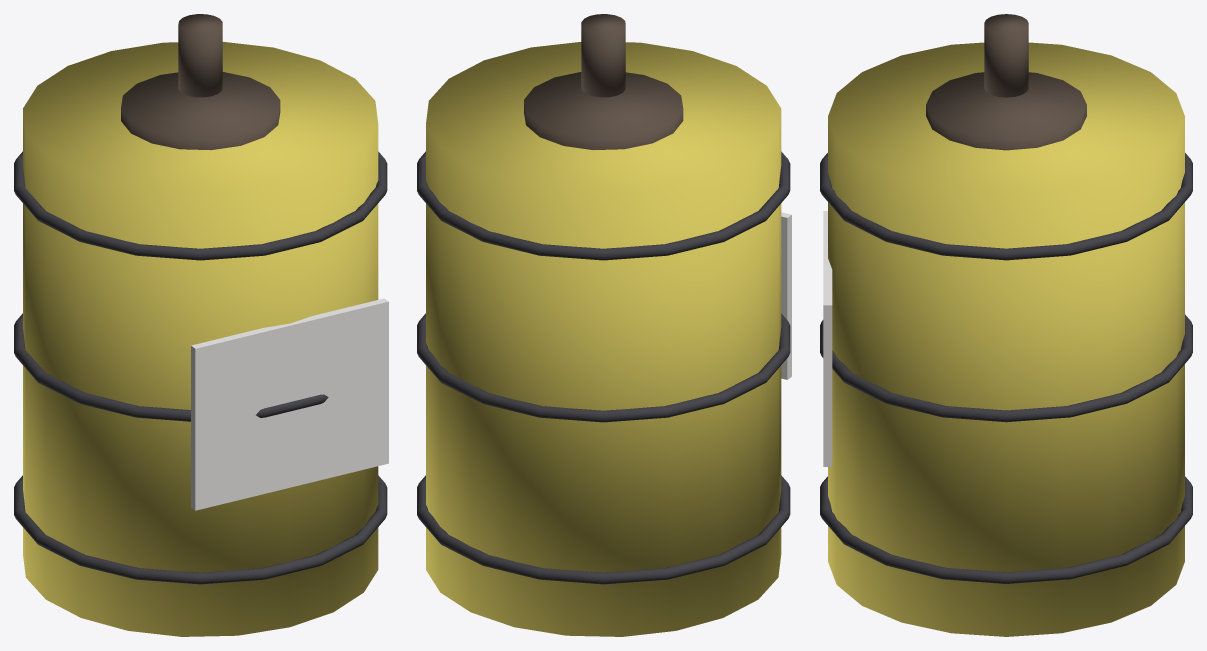
Rendered from prop_chochin_kanban_ki.glb.
3 views of the same model, side by side, from view 1: azimuth 30°, elevation 25°; view 2: azimuth 150°, elevation 25°; view 3: azimuth 270°, elevation 25° (orthographic).
Visible parts, largest first — view 1: chochin_kanban_ki; view 2: chochin_kanban_ki; view 3: chochin_kanban_ki.
Boxes of the visible parts, bbox=[...] form: chochin_kanban_ki: bbox=[14, 14, 388, 636]; chochin_kanban_ki: bbox=[417, 14, 791, 636]; chochin_kanban_ki: bbox=[820, 14, 1192, 636].
Bounding box in the file's own units: 0.848 × 1.36 × 0.8351.
